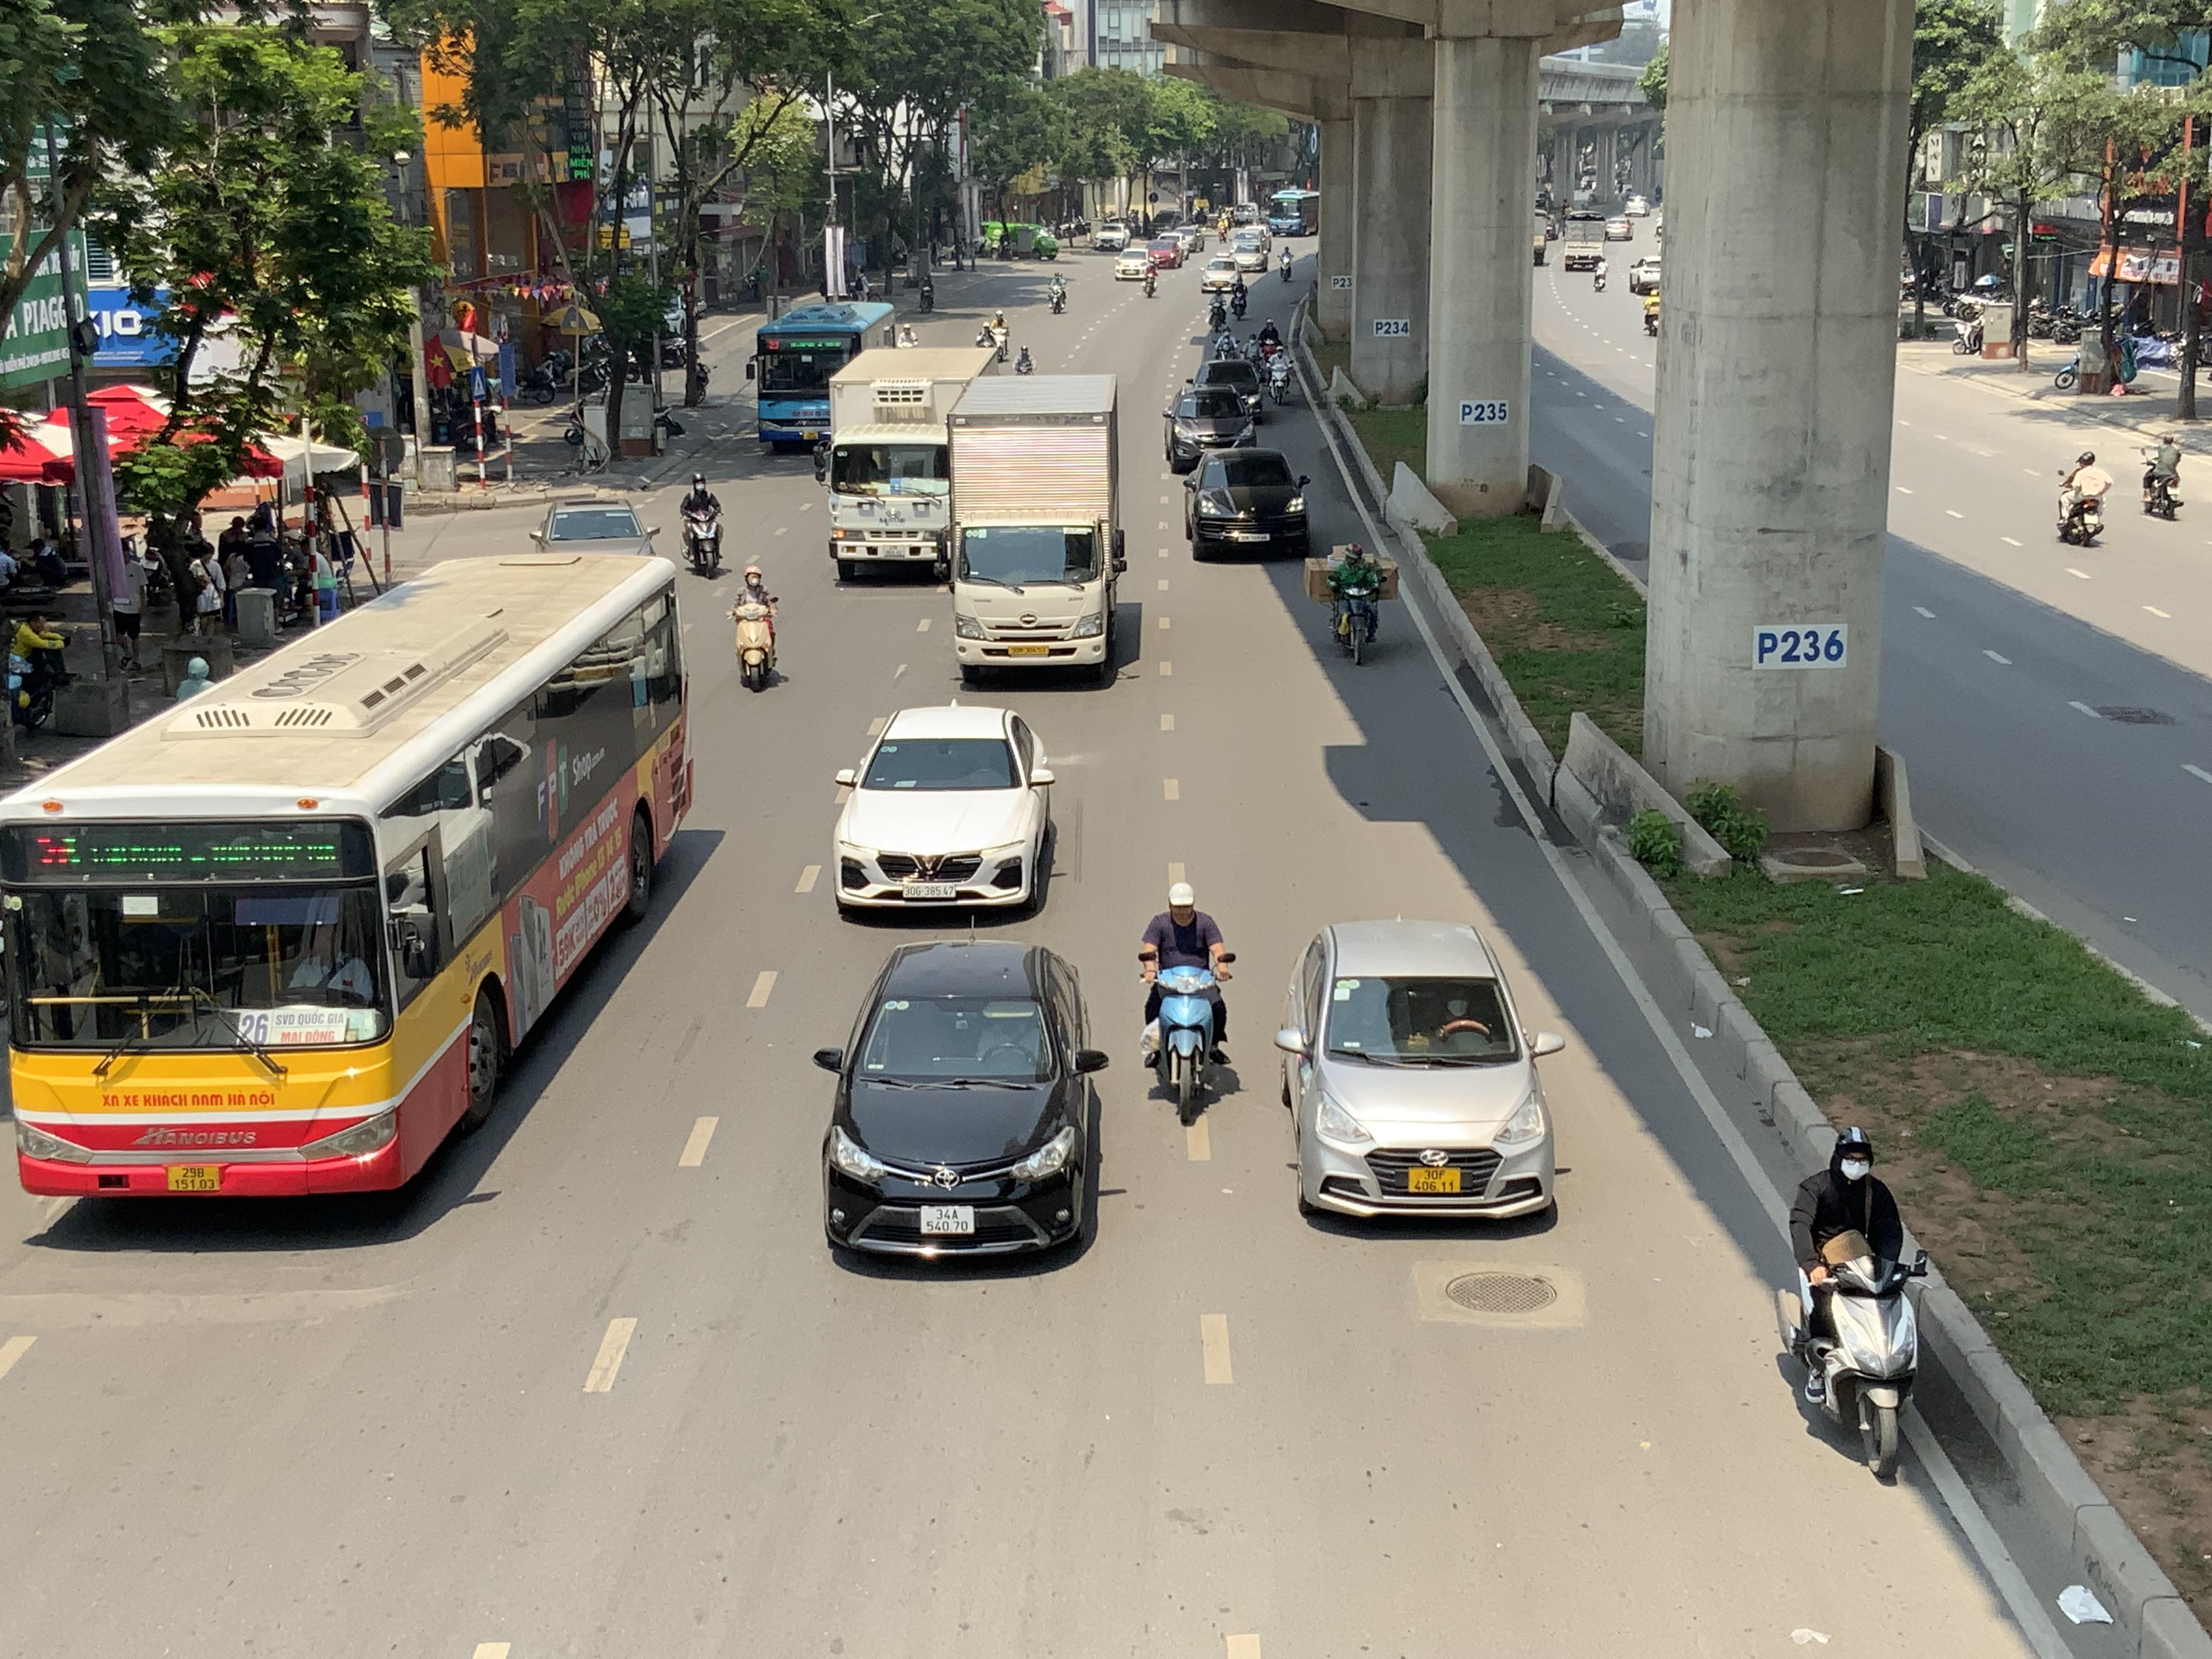BSD: (902, 884, 956, 899)
BSV: (920, 1204, 975, 1234), (1406, 1168, 1461, 1194), (169, 1166, 219, 1190)
bus: (0, 542, 697, 1201), (751, 296, 902, 453)
car: (812, 938, 1111, 1267), (1271, 917, 1569, 1232), (831, 702, 1061, 924), (1183, 444, 1312, 559), (1162, 383, 1258, 469)
motorbike: (1780, 1124, 1928, 1486), (1139, 880, 1237, 1126), (2, 603, 71, 735), (1325, 540, 1385, 664), (730, 561, 782, 692), (270, 526, 322, 631), (2055, 448, 2107, 545), (679, 474, 725, 579), (2141, 429, 2184, 519), (1261, 336, 1294, 406), (1952, 301, 1987, 357), (1045, 270, 1069, 315), (1228, 272, 1251, 317), (916, 272, 937, 315)
truck: (939, 373, 1130, 683), (822, 343, 995, 589)
